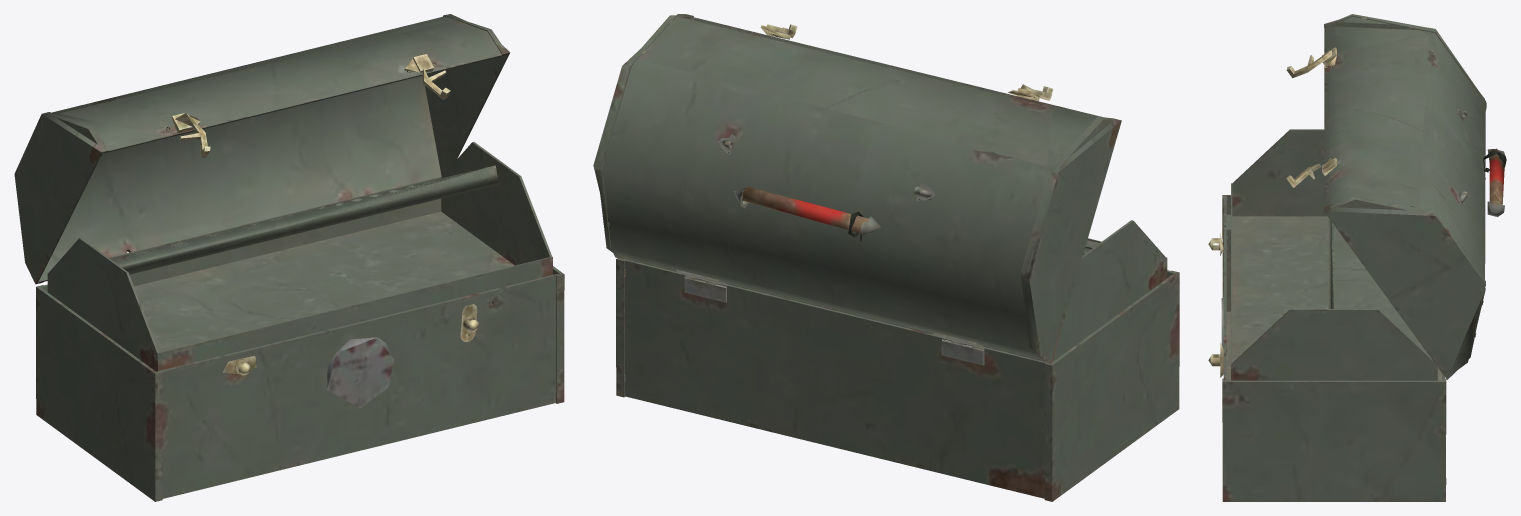
Rendered from metal_toolbox.glb.
3 views of the same model, side by side, from view 1: azimuth 30°, elevation 25°; view 2: azimuth 150°, elevation 25°; view 3: azimuth 270°, elevation 25° (orthographic). The views are drawn at different scales.
Visible parts, largest first — view 1: metal_toolbox; view 2: metal_toolbox; view 3: metal_toolbox.
Part boxes in pixels (x1=…): metal_toolbox: x1=14, y1=14, x2=564, y2=501; metal_toolbox: x1=593, y1=14, x2=1179, y2=501; metal_toolbox: x1=1208, y1=14, x2=1506, y2=501.
Bounding box in the file's own units: 0.4 × 0.3039 × 0.2694.
1 material, 1 textured.
